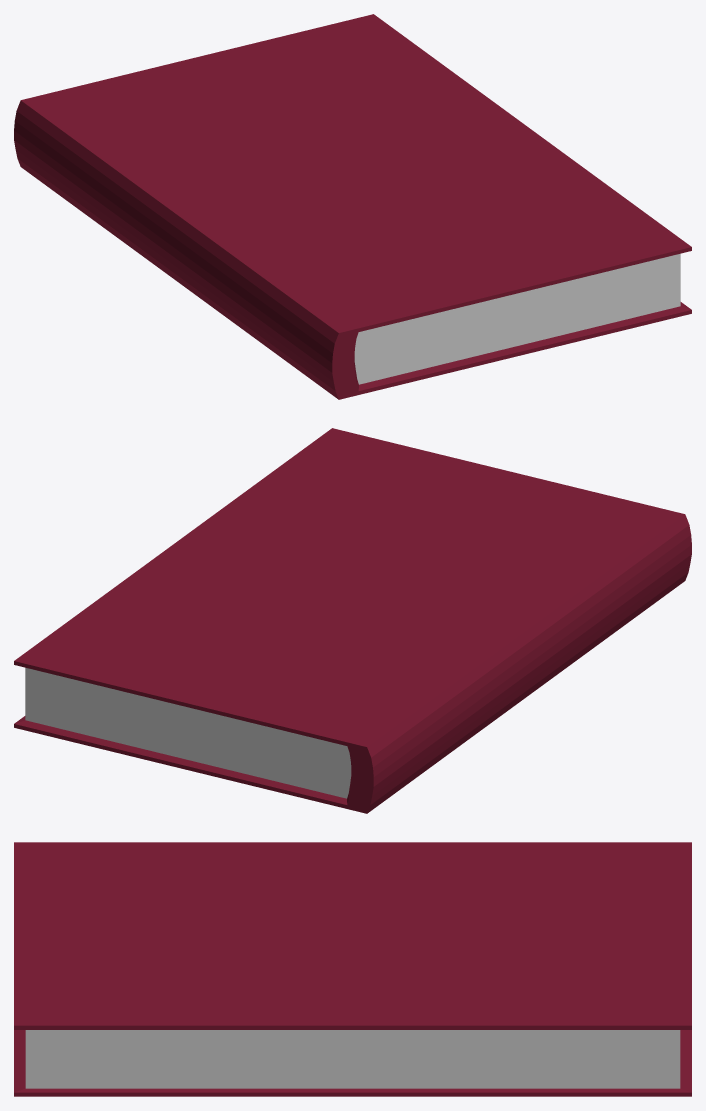
Rendered from LV1_Textbook.fbx.
3 renders of one model, top to bottom at view 1: azimuth 30°, elevation 25°; view 2: azimuth 150°, elevation 25°; view 3: azimuth 270°, elevation 25°, orthographic. The views are drawn at different scales.
Parts seen in each view (by area): view 1: pCube2; view 2: pCube2; view 3: pCube2.
Part boxes in pixels (x1,y1,x2,y2): pCube2: (14, 14, 691, 399); pCube2: (14, 428, 691, 813); pCube2: (14, 842, 691, 1096).
Bounding box in the file's own units: 0.582 × 0.1031 × 0.8918.
